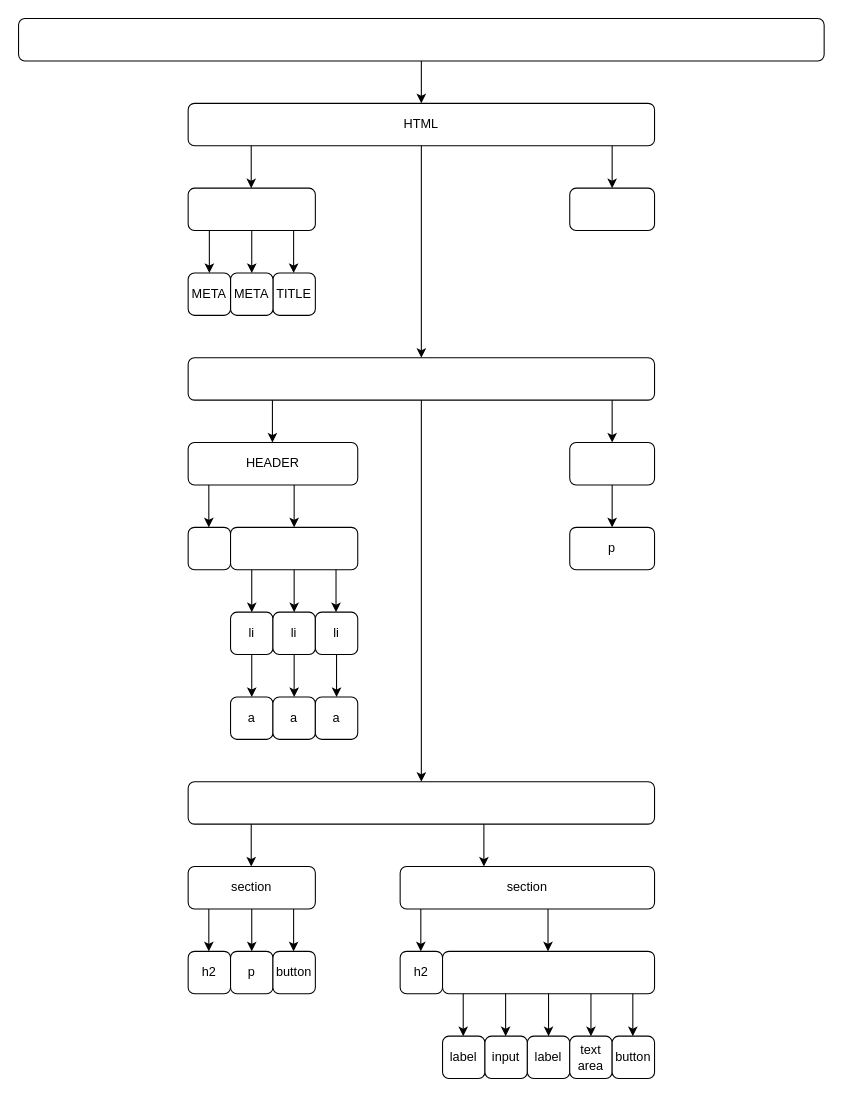
Image size: 843x1097. Some labels were removed from this diagram. Here are the shapes that lost their labels. From the top down, the centre of each, then its label:
At (420,39): "Document".
At (251,209): "HEAD".
At (612,209): "script".
At (421,378): "BODY".
At (612,463): "FOOTER".
At (209,548): "h1".
At (293,548): "ul".
At (421,802): "MAIN".
At (548,972): "form".
